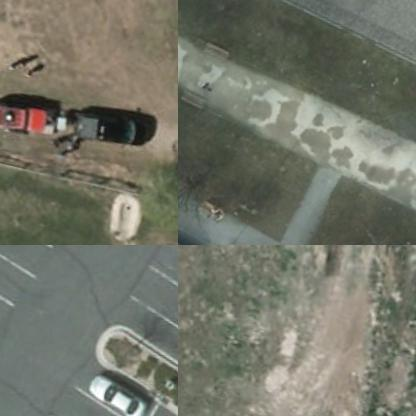car: (70, 106, 142, 154), (79, 372, 151, 415)
